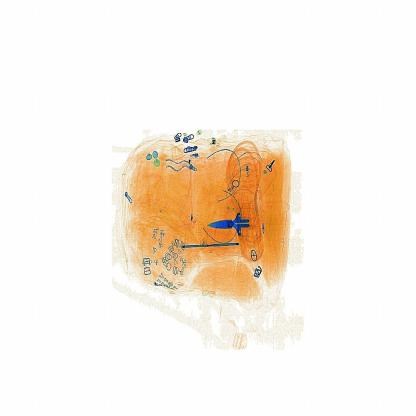gun: (207, 194, 262, 249)
